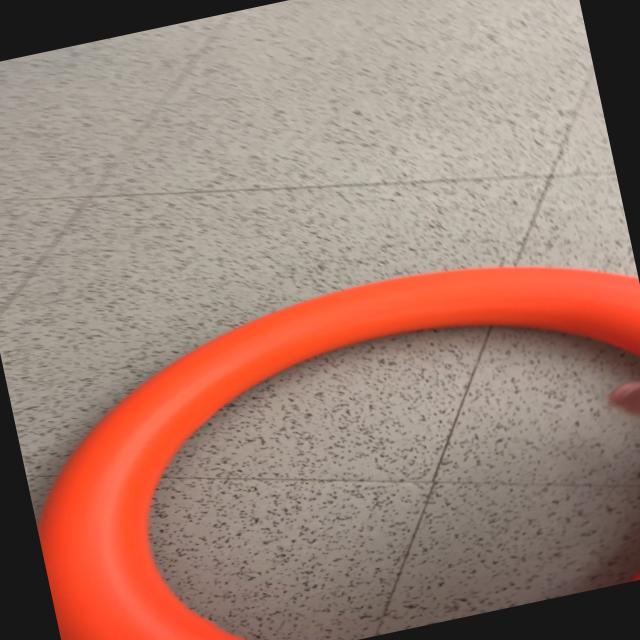note: (4, 226, 640, 640)
